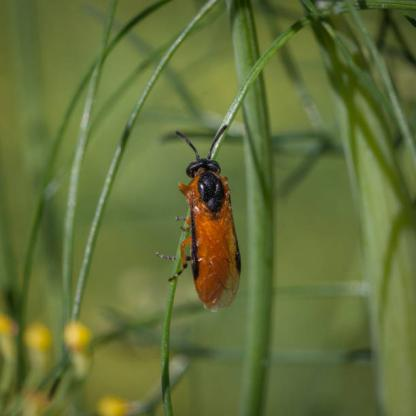sawfly: (155, 122, 253, 315)
